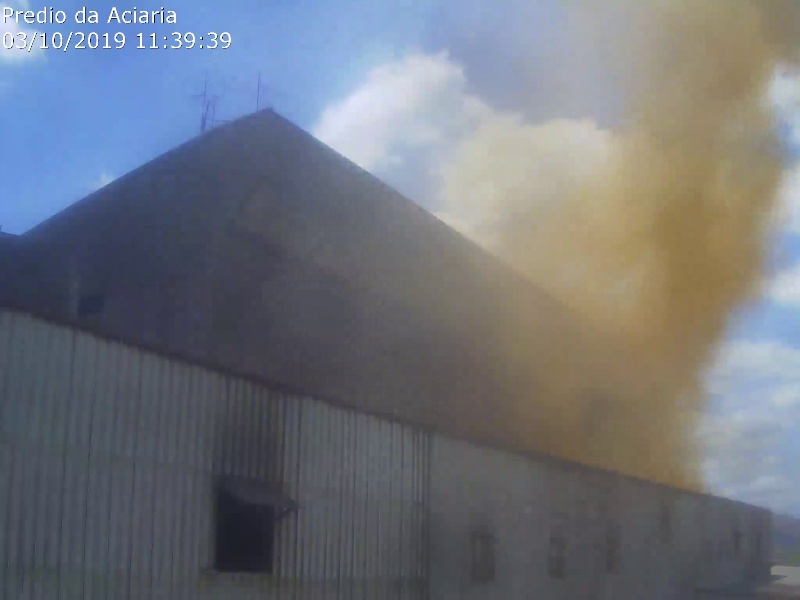bom: (3, 4, 201, 202)
pessimo: (480, 4, 800, 484)
ruim: (228, 7, 445, 333)
